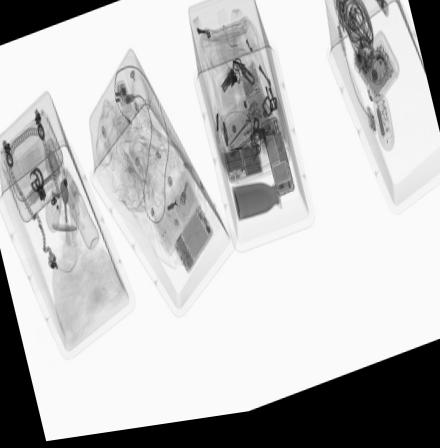Powerbank: (362, 52, 397, 112)
